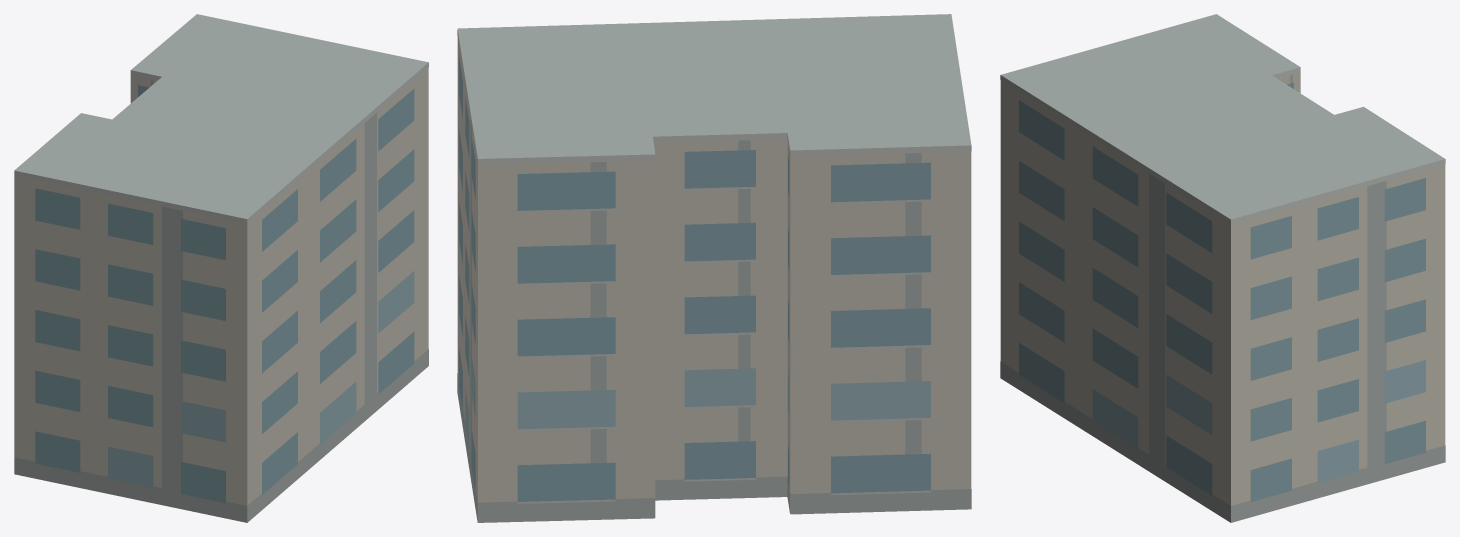
Rendered from survey-upis-32977820.glb.
The picture shows the model from 3 angles, left to right: view 1: azimuth 30°, elevation 25°; view 2: azimuth 150°, elevation 25°; view 3: azimuth 270°, elevation 25°; orthographic projection. The views are drawn at different scales.
Parts seen in each view (by area): view 1: survey-upis-32977820.tmp; view 2: survey-upis-32977820.tmp; view 3: survey-upis-32977820.tmp.
Part boxes in pixels (x1,y1,x2,y2): survey-upis-32977820.tmp: (14, 14, 428, 522); survey-upis-32977820.tmp: (457, 14, 971, 522); survey-upis-32977820.tmp: (1000, 14, 1445, 522).
Bounding box in the file's own units: 20.64 × 14.2 × 18.89.
